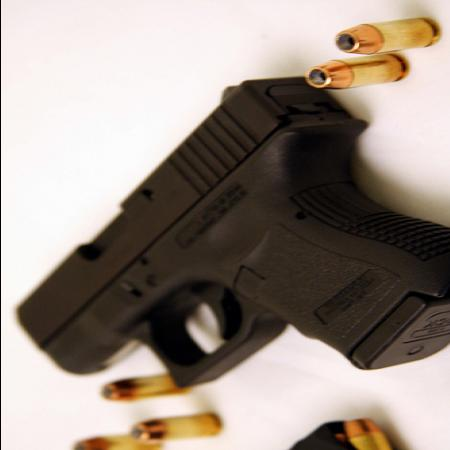Pistol: (10, 76, 448, 388)
